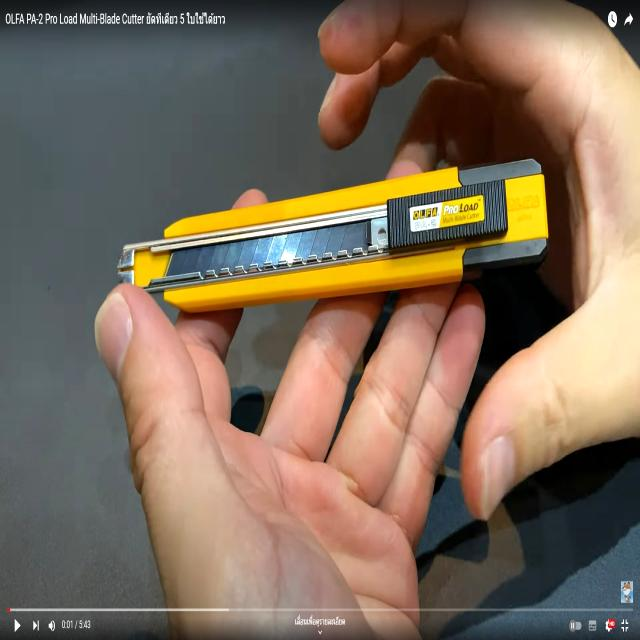cutter: (70, 122, 622, 399)
